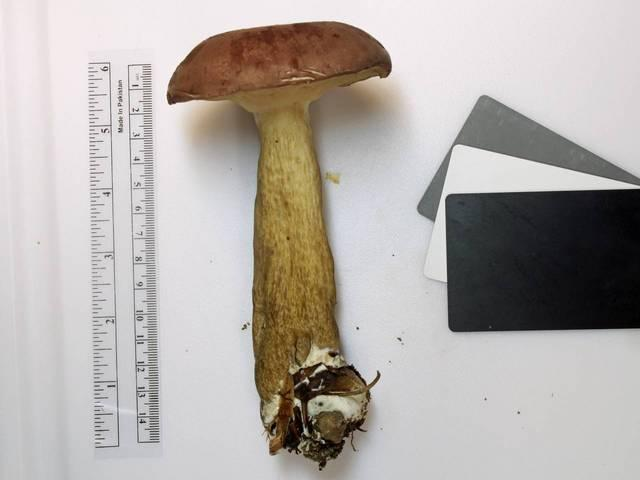poisonous_mushroom: (165, 19, 392, 469)
